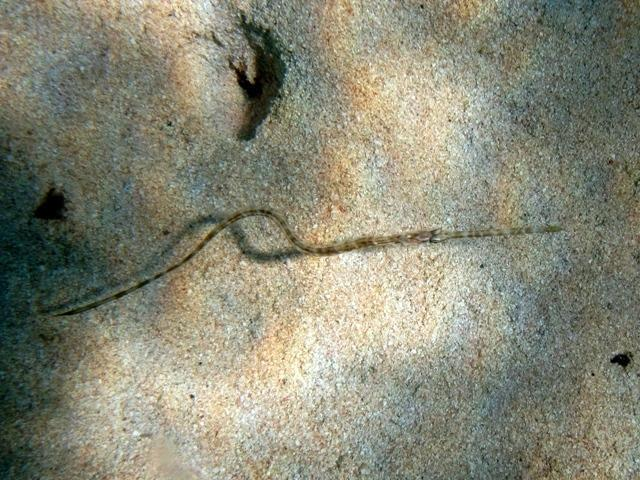Fistularia commersonii: (65, 174, 603, 320)
